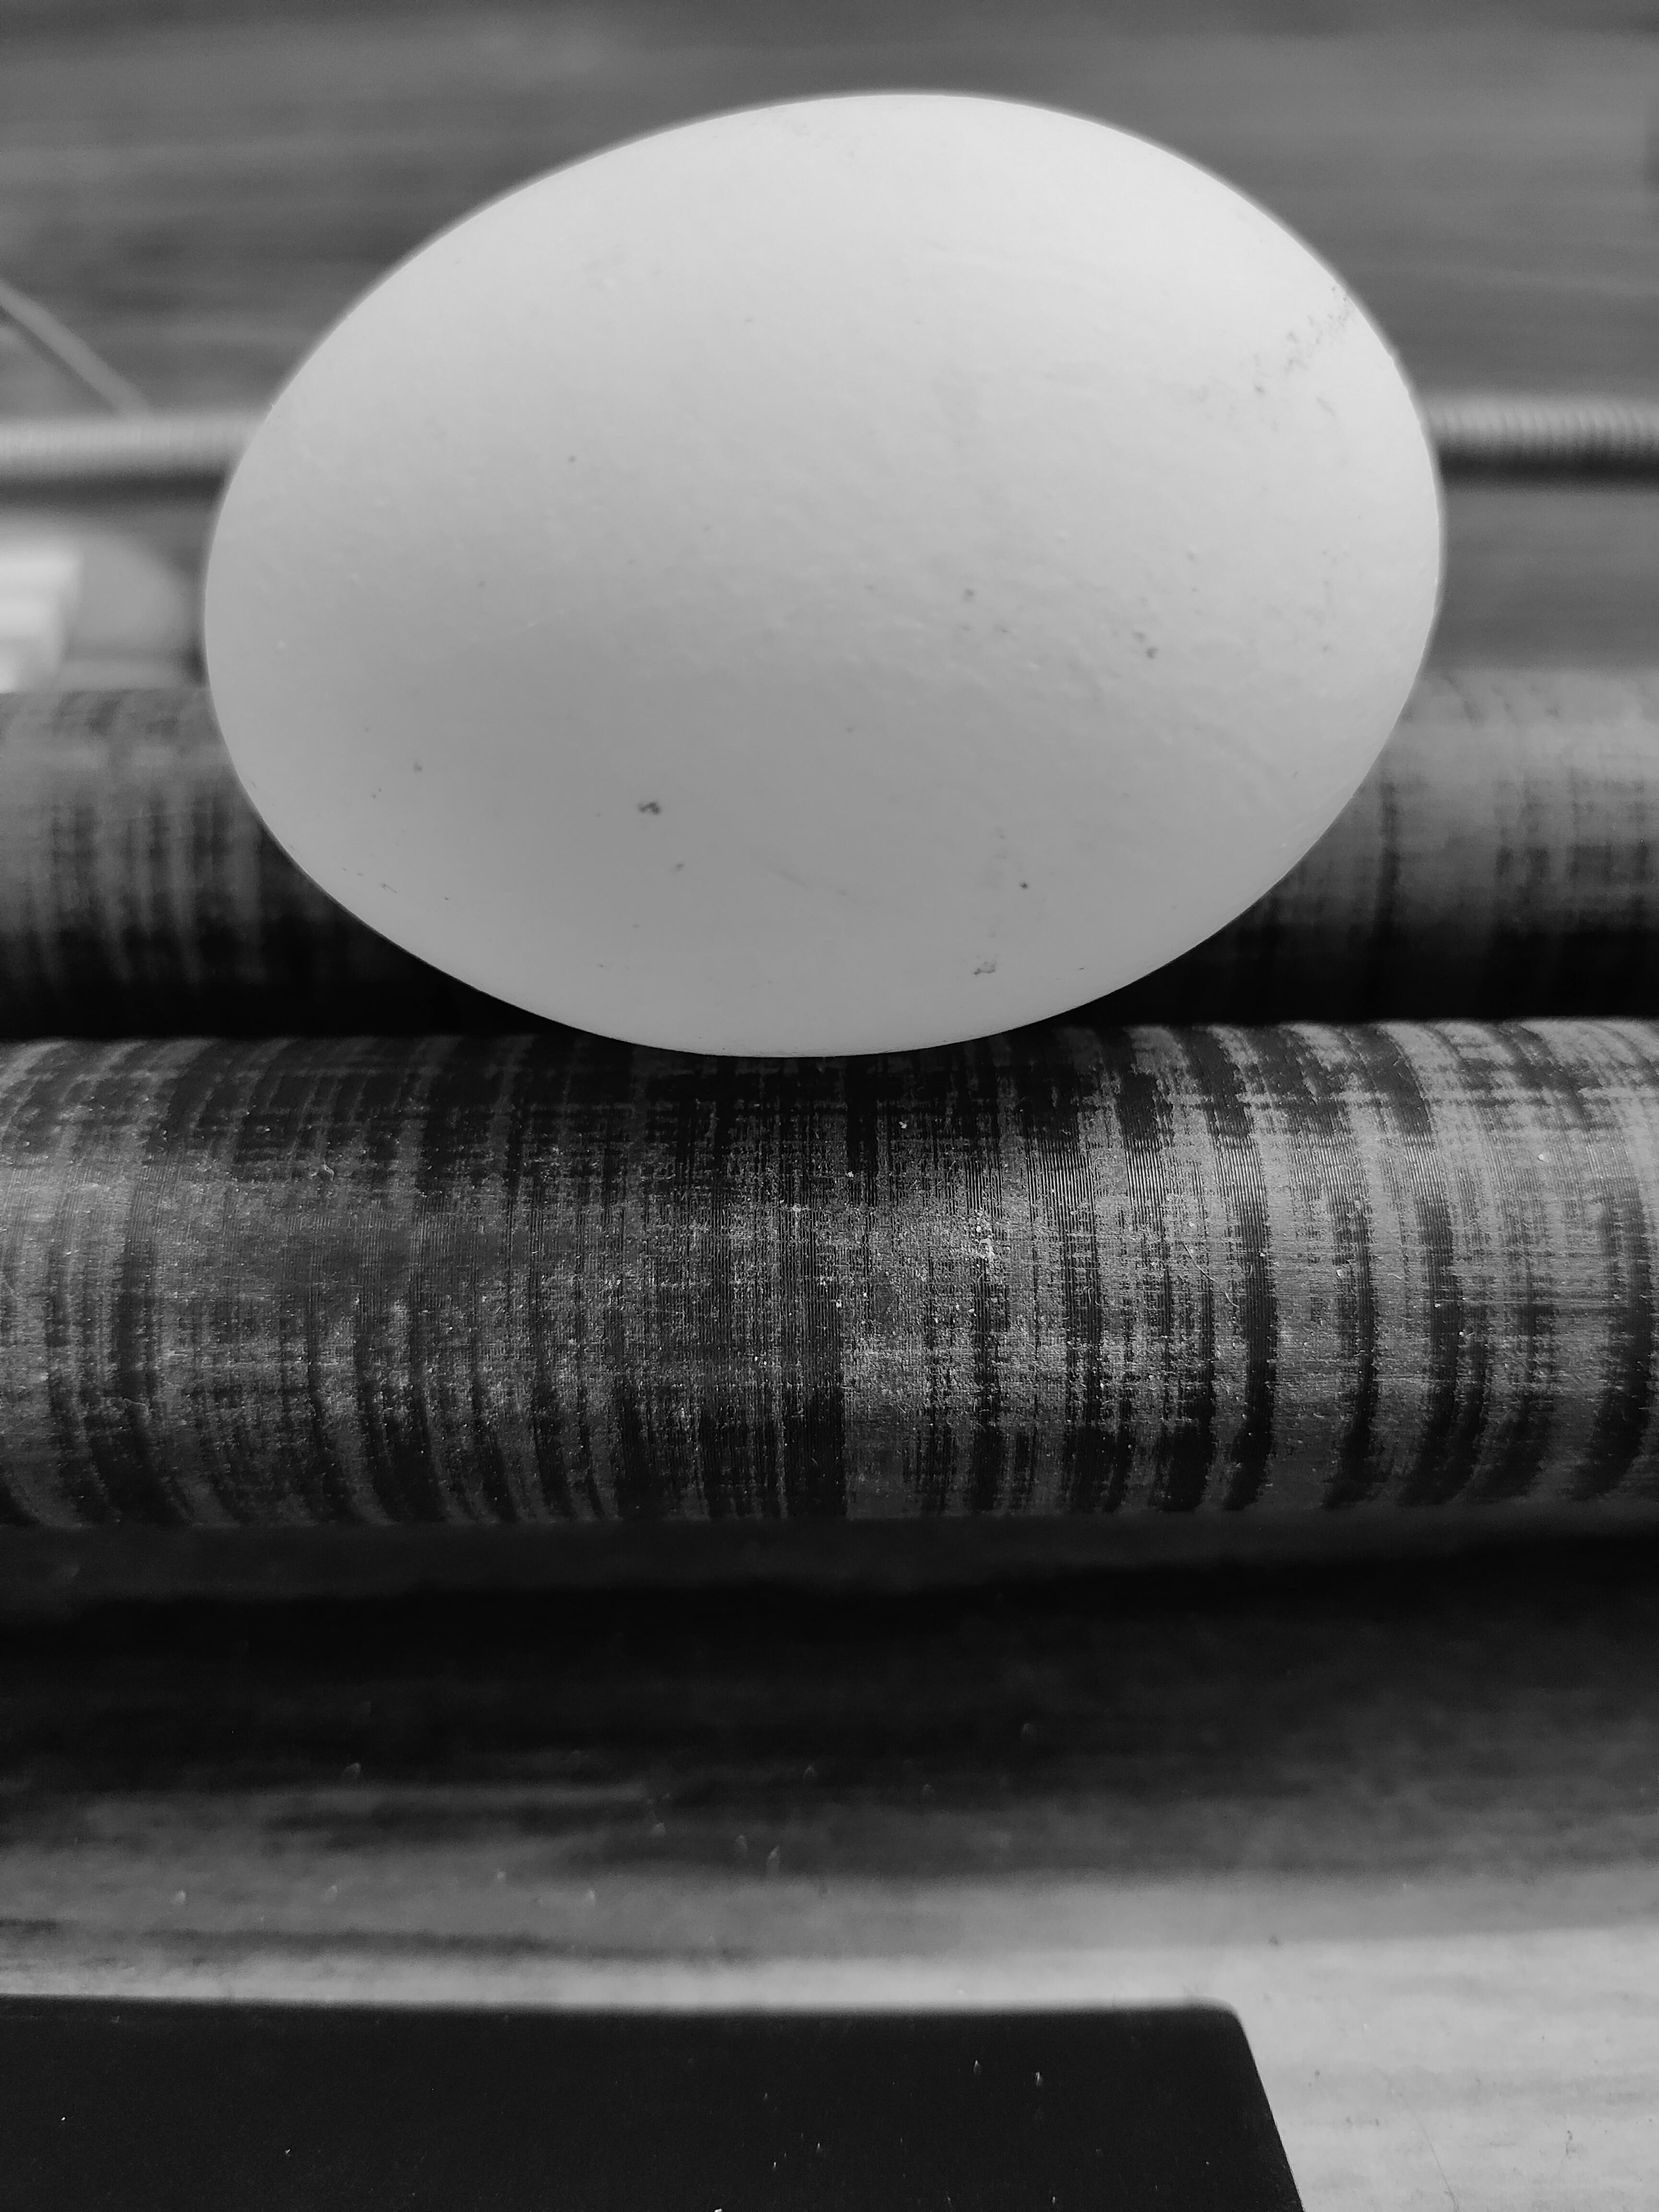telur: (148, 59, 1474, 1076)
